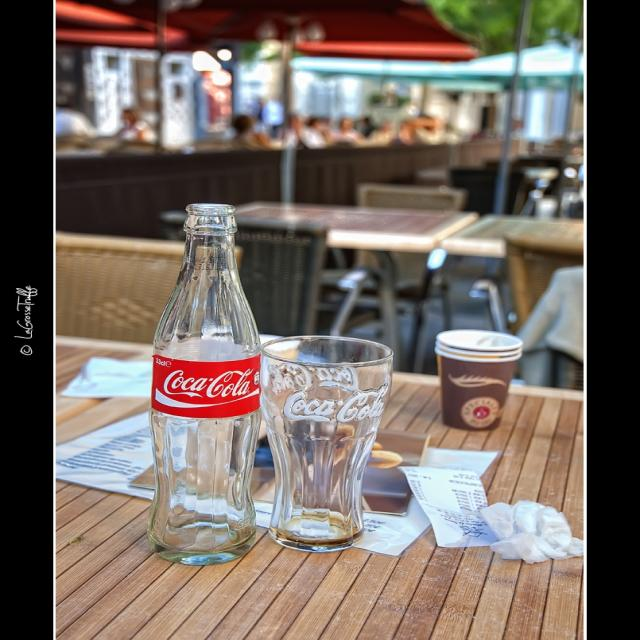cocacola: (280, 385, 391, 428), (156, 365, 260, 402)
